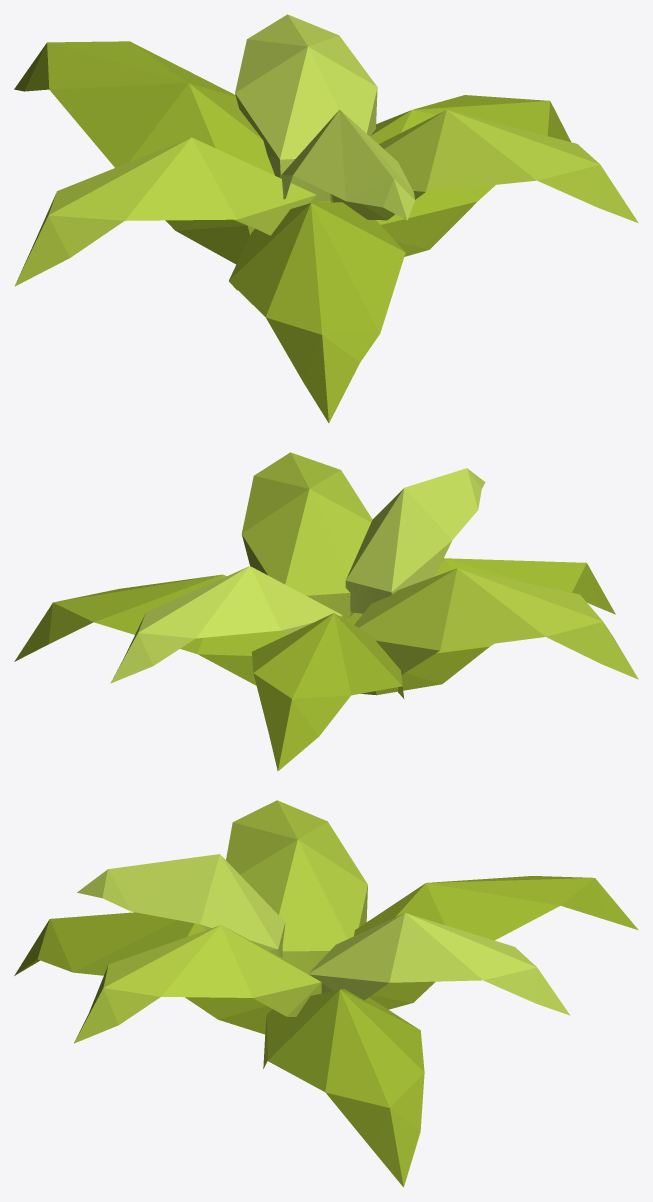
File: plant_1.fbx
3 views of the same model, one above another, from view 1: azimuth 30°, elevation 25°; view 2: azimuth 150°, elevation 25°; view 3: azimuth 270°, elevation 25° (orthographic). The views are drawn at different scales.
Parts seen in each view (by area): view 1: plant_1; view 2: plant_1; view 3: plant_1.
Boxes of the visible parts, x1,y1,x2,y2 form: plant_1: (14,14,638,422); plant_1: (14,452,638,771); plant_1: (14,800,638,1187).
Bounding box in the file's own units: 273 × 84.65 × 259.
